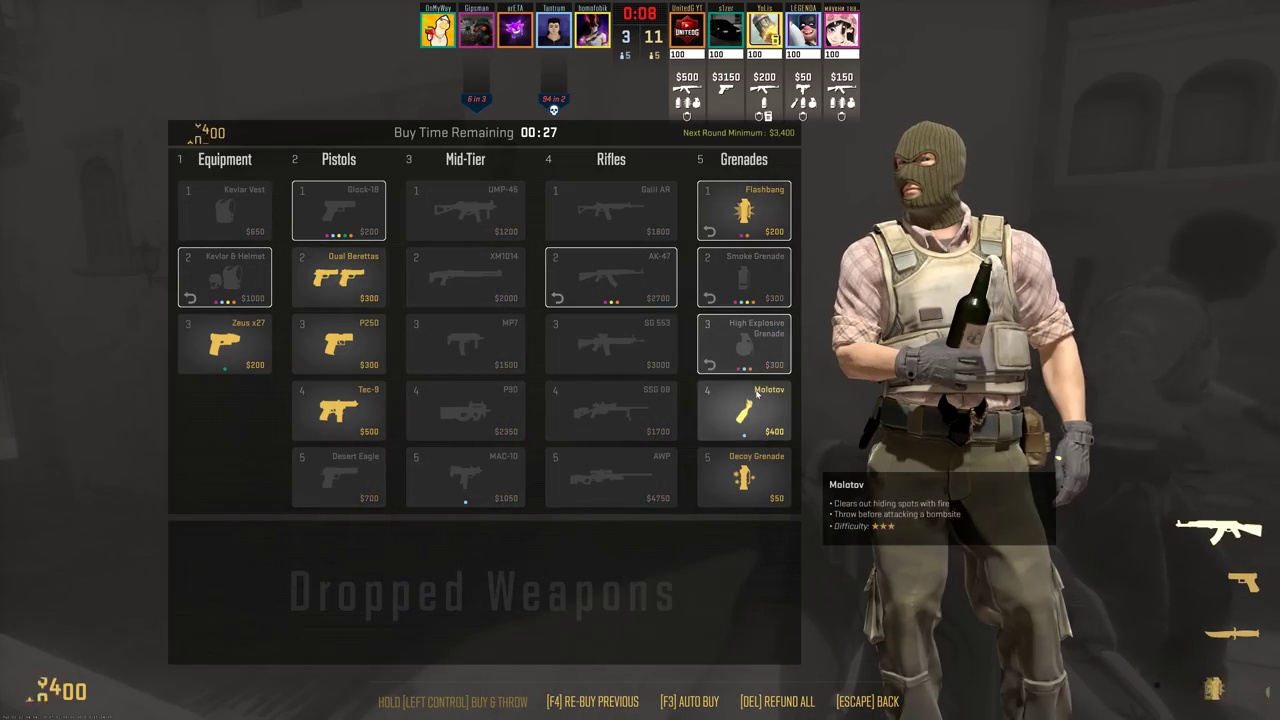Terrorist: (845, 121, 1075, 720)
